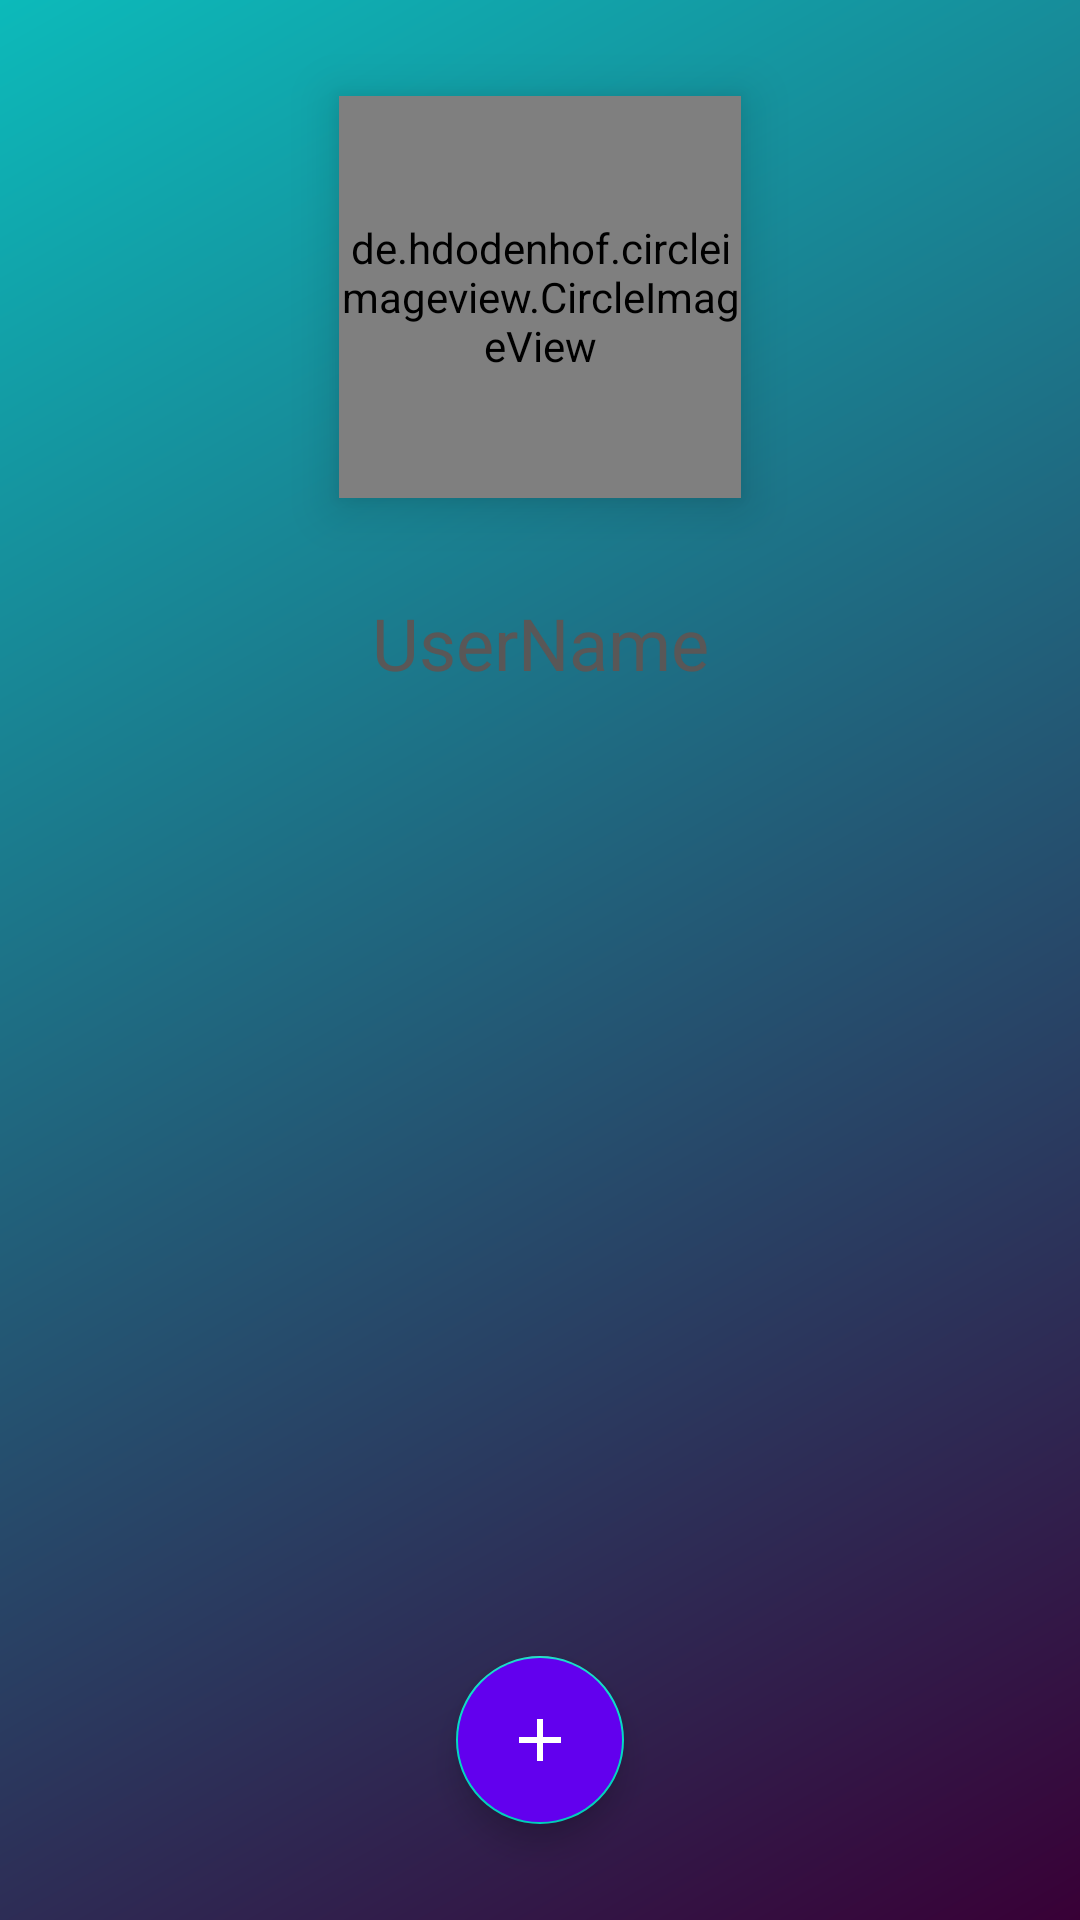

Screen size 1080px x 1920px. Icon name, then its center in pixels as (x,y):
add: (540,1740)
